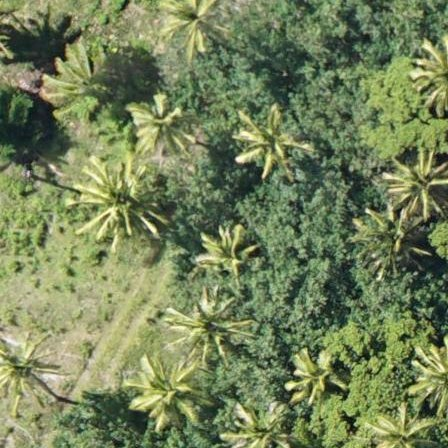palm_tree: (228, 103, 300, 179), (81, 161, 148, 232), (46, 44, 113, 109), (127, 358, 191, 426), (387, 153, 448, 224), (125, 89, 188, 156), (199, 223, 260, 288), (176, 293, 241, 351), (367, 208, 424, 269), (159, 1, 227, 52), (283, 349, 343, 403), (219, 403, 290, 448), (365, 413, 438, 448), (1, 340, 46, 394)
